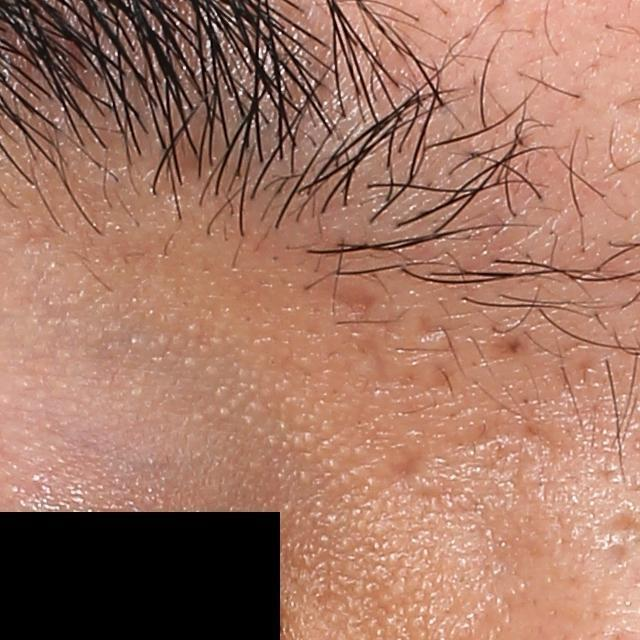atrophic_scar: (389, 448, 428, 484), (340, 288, 381, 318), (488, 334, 525, 357)
